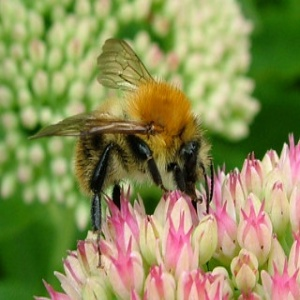bee: (26, 38, 218, 269)
